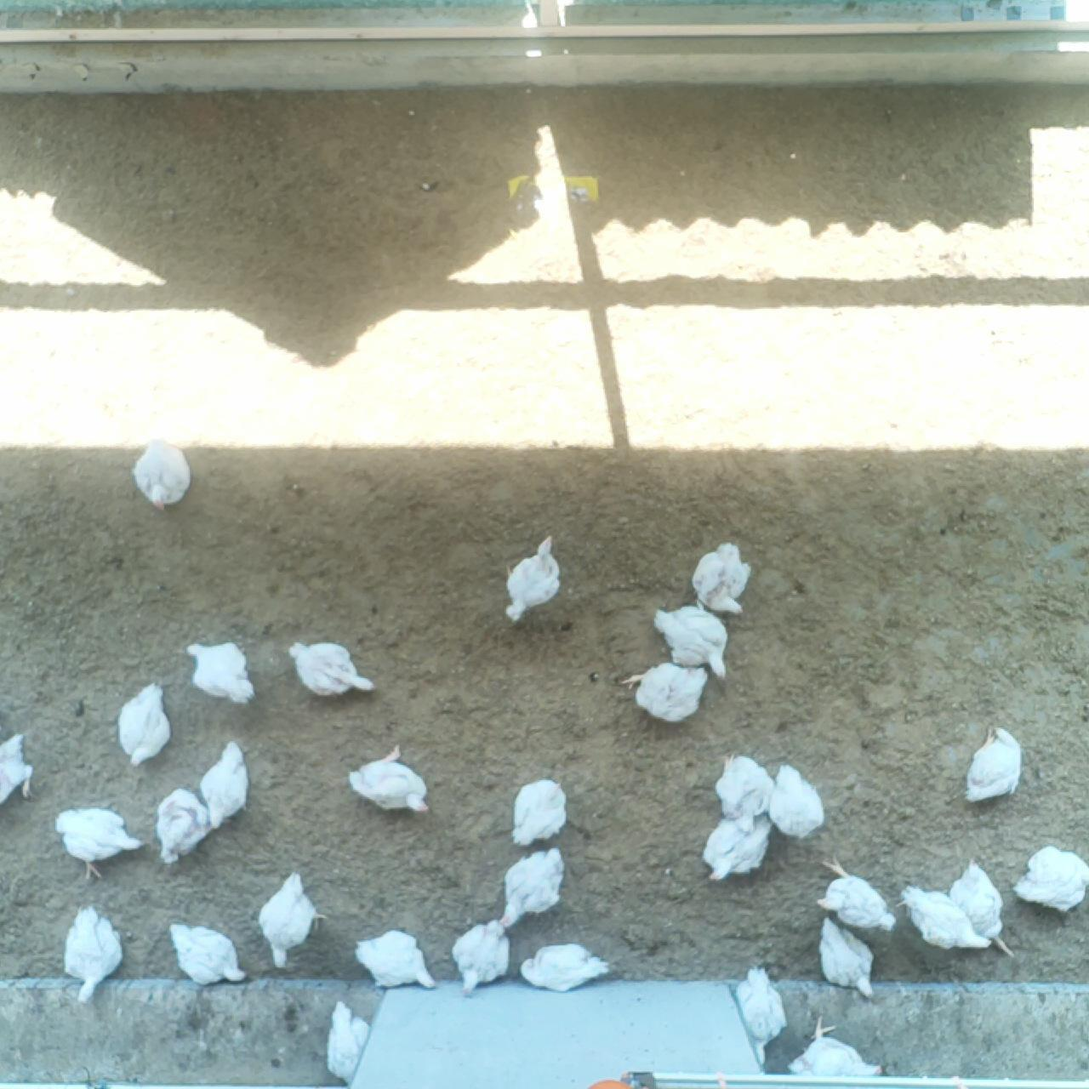chicken: (255, 872, 330, 967), (816, 852, 898, 932), (949, 859, 1014, 959), (54, 808, 143, 880), (655, 607, 739, 680), (730, 965, 789, 1063), (903, 888, 984, 959), (62, 904, 121, 1001), (784, 1020, 881, 1076), (346, 747, 426, 812), (288, 641, 375, 698), (168, 921, 249, 981), (503, 851, 565, 929), (624, 664, 707, 721), (198, 744, 254, 828), (452, 920, 512, 997), (716, 760, 777, 835), (154, 789, 214, 863), (509, 537, 560, 624), (358, 929, 433, 988), (966, 729, 1024, 803), (766, 767, 824, 841), (120, 681, 172, 763), (189, 644, 254, 708), (1021, 846, 1075, 921), (526, 944, 614, 990), (704, 819, 769, 880), (327, 1002, 374, 1086), (693, 543, 751, 611), (510, 780, 567, 847), (134, 443, 193, 498), (1, 729, 35, 805)
